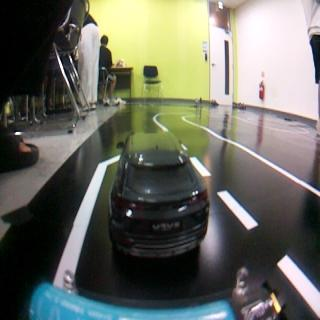car: (109, 130, 211, 255)
